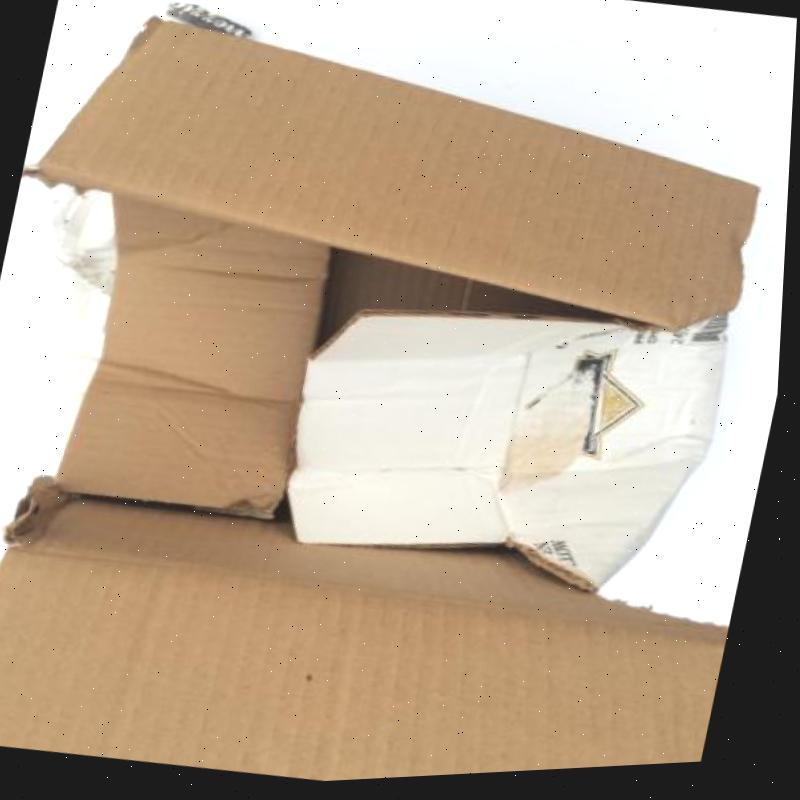cardboard: (0, 12, 758, 781)
